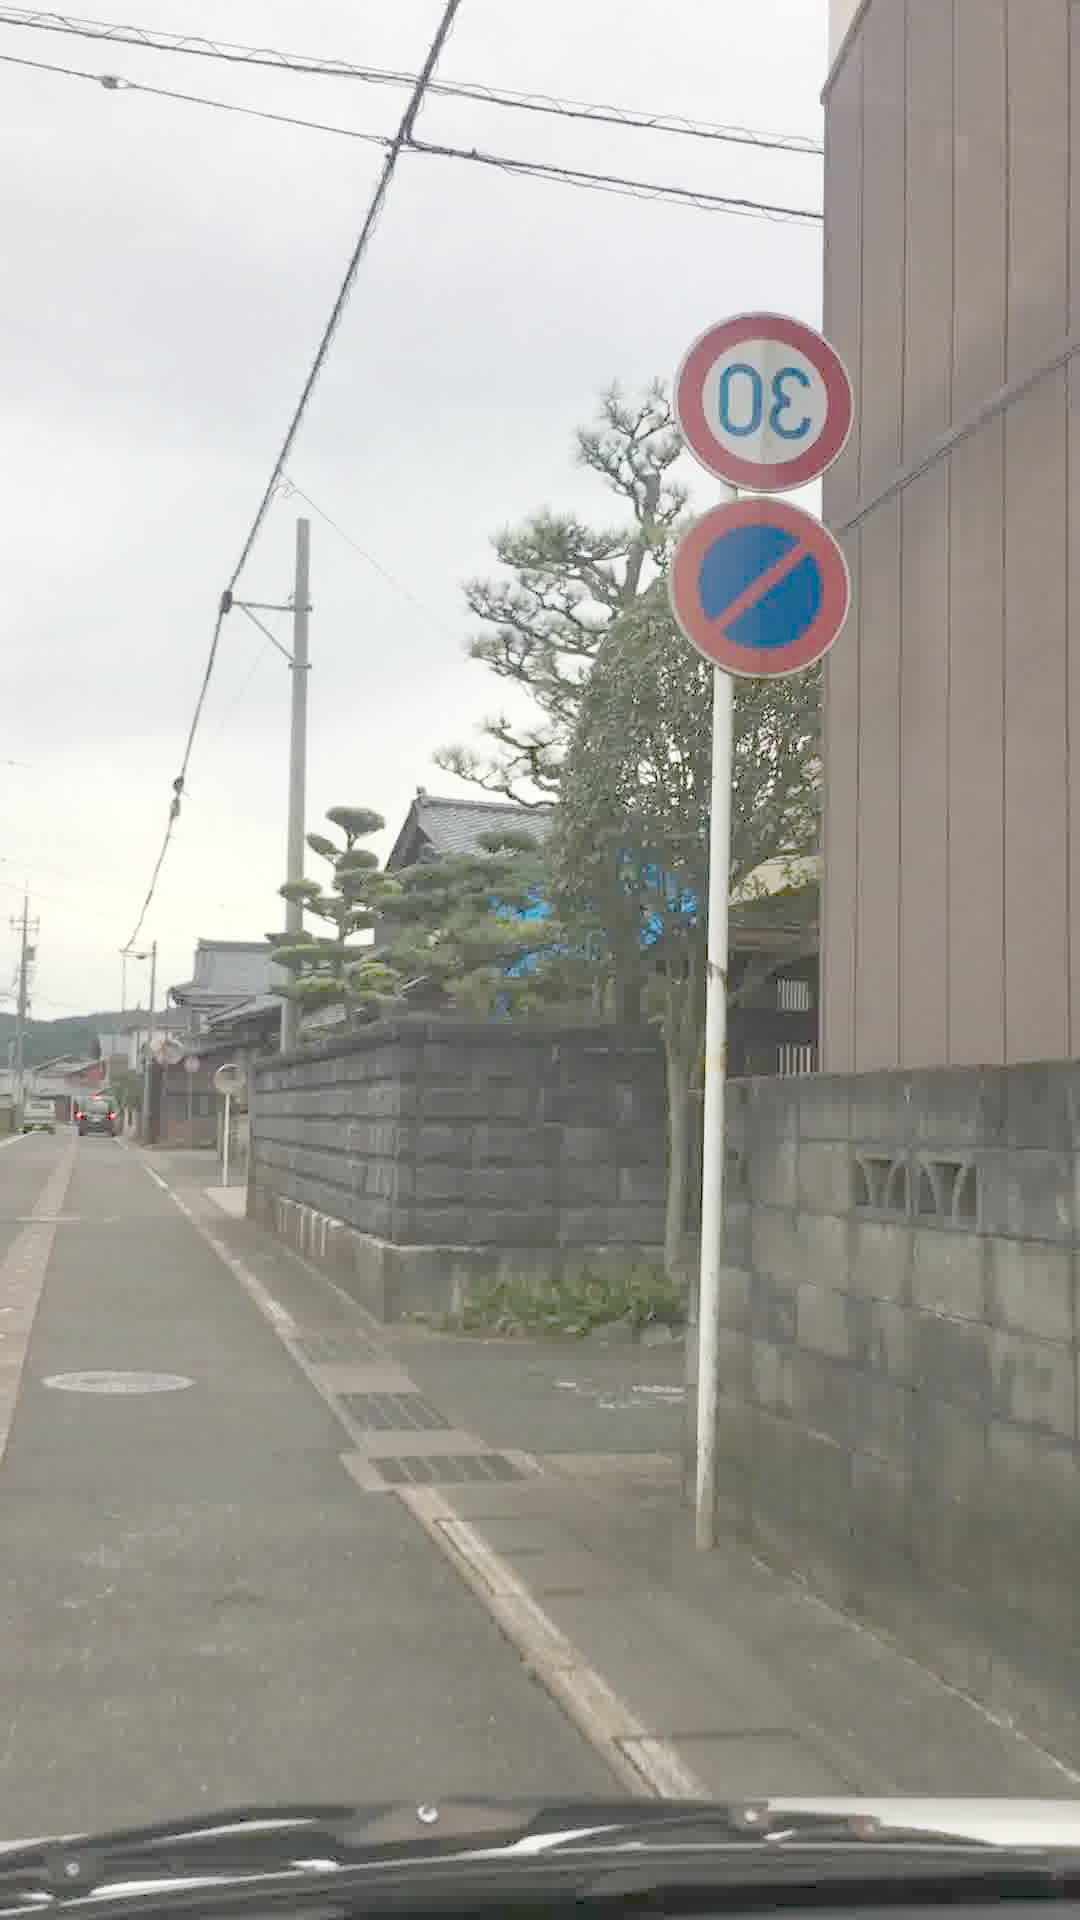Prohibition_sign: (662, 518, 868, 717)
Speed_sign: (676, 302, 868, 506)
